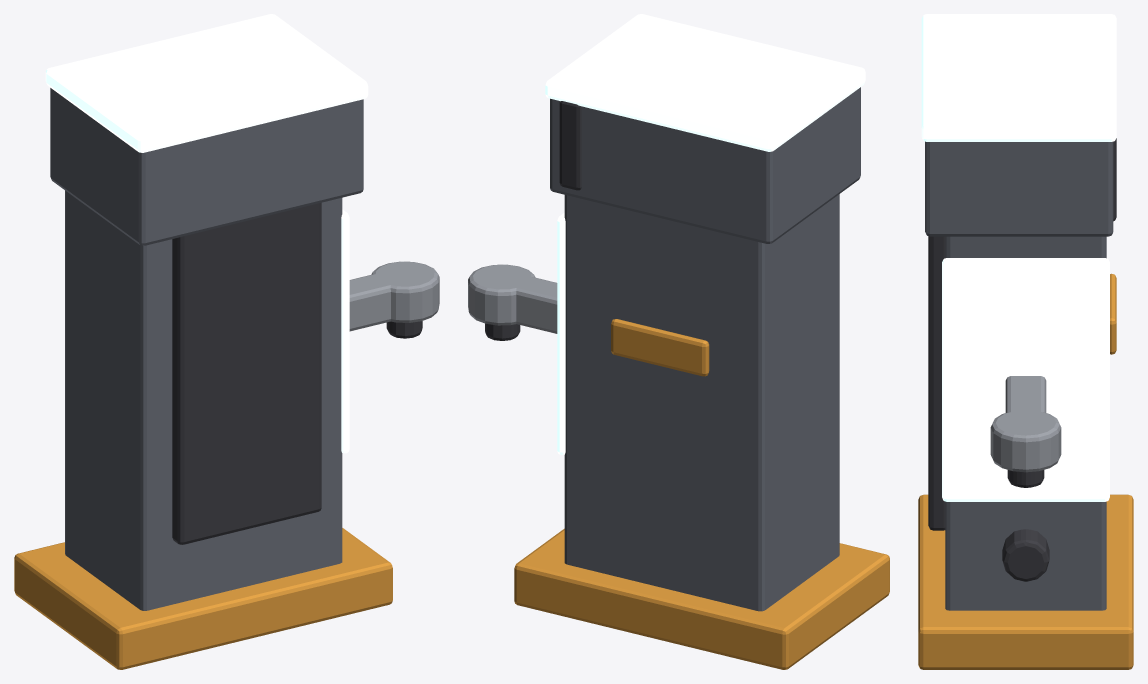
File: charger.glb
3 views of the same model, side by side, from view 1: azimuth 30°, elevation 25°; view 2: azimuth 150°, elevation 25°; view 3: azimuth 270°, elevation 25° (orthographic).
Visible parts, largest first — view 1: ChargerStation; view 2: ChargerStation; view 3: ChargerStation.
Boxes of the visible parts, x1,y1,x2,y2 form: ChargerStation: (14, 14, 439, 669); ChargerStation: (468, 14, 889, 669); ChargerStation: (918, 14, 1133, 669).
Bounding box in the file's own units: 1.28 × 1.75 × 0.64.
